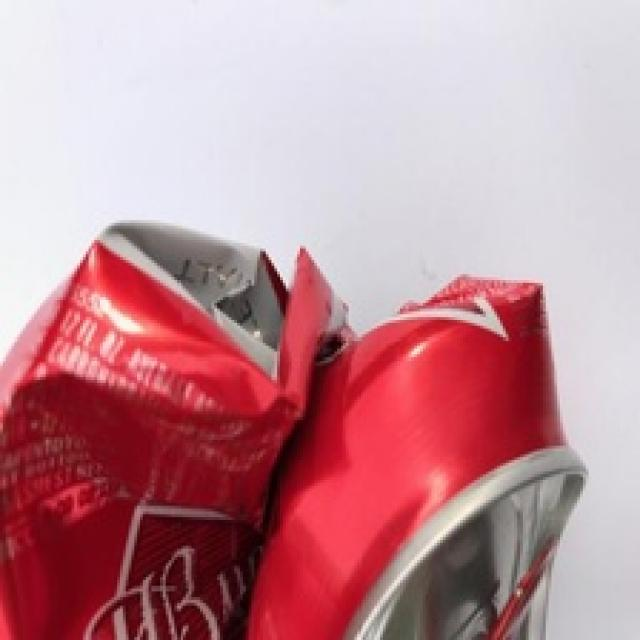recyclable: (0, 219, 592, 639)
